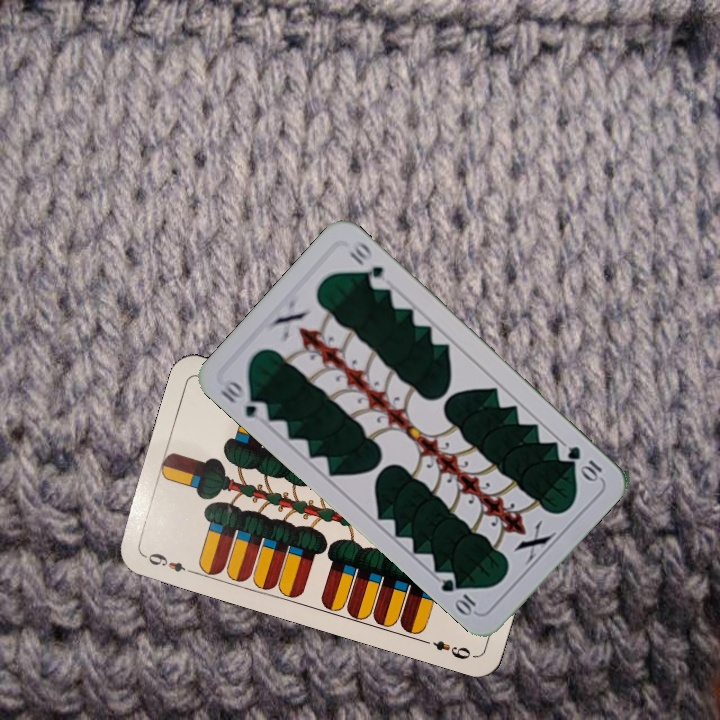E9: (140, 549, 197, 577)
G10: (216, 374, 271, 421), (563, 442, 605, 484)
